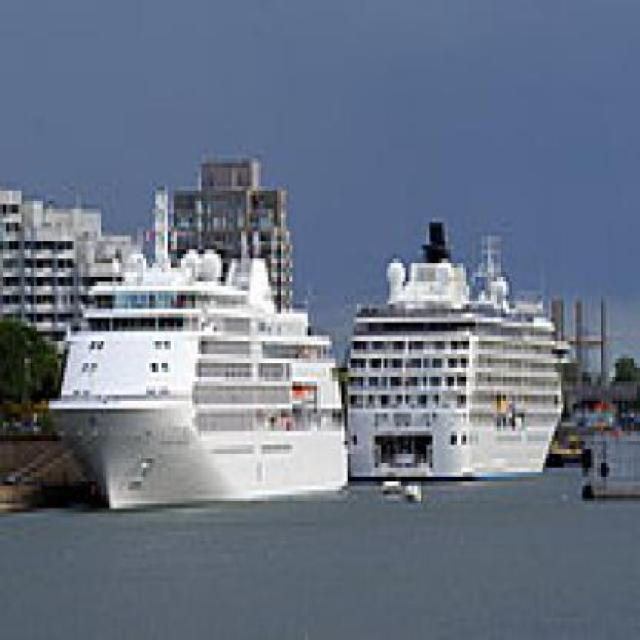cruise: (38, 219, 361, 514), (342, 209, 577, 491)
